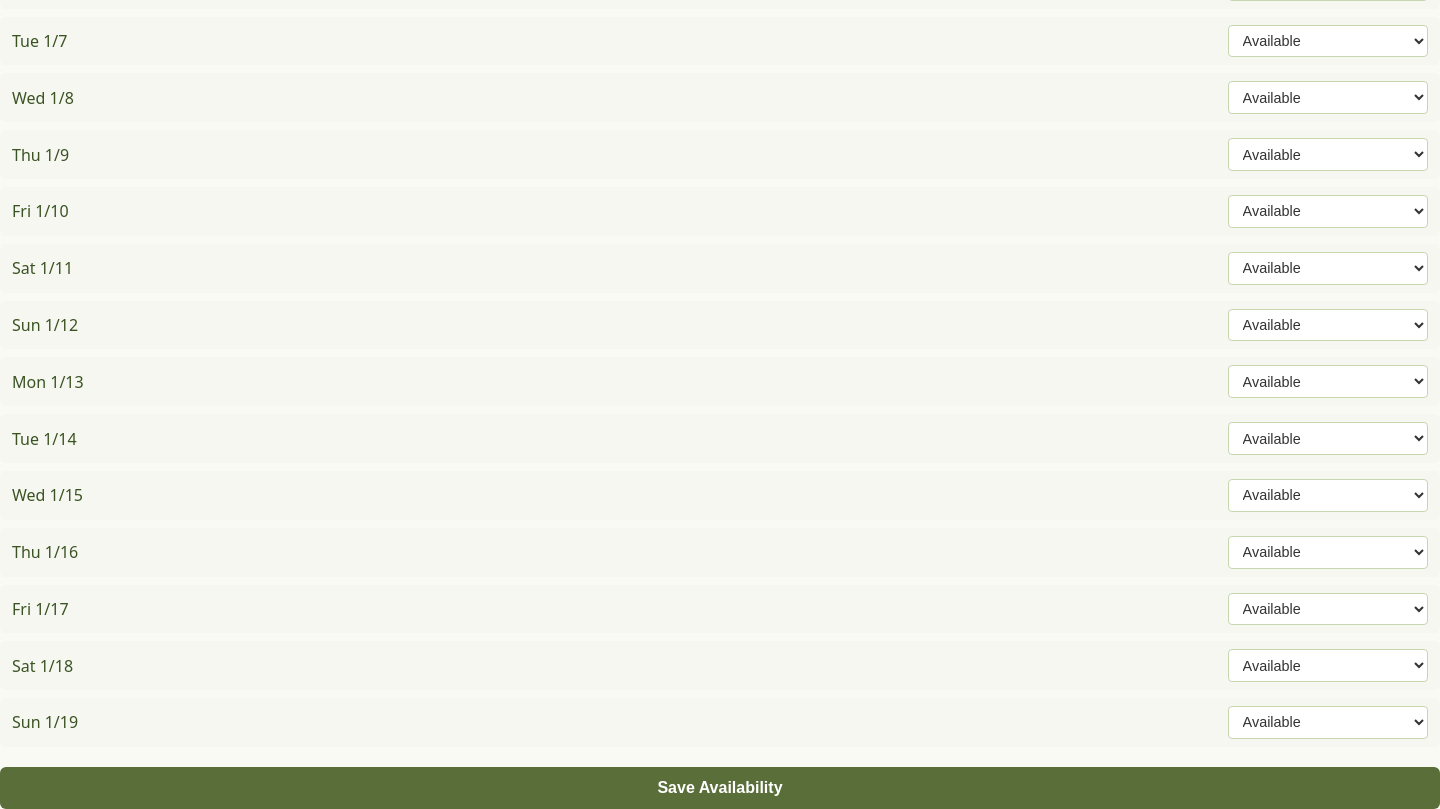
Test: AvailabilityGrid › shows success toast after save
The image size is (1440, 809).
(page scrolled)
Click the button "Save Availability" at x=720, y=788, box [0, 767, 1439, 808]
(page scrolled)
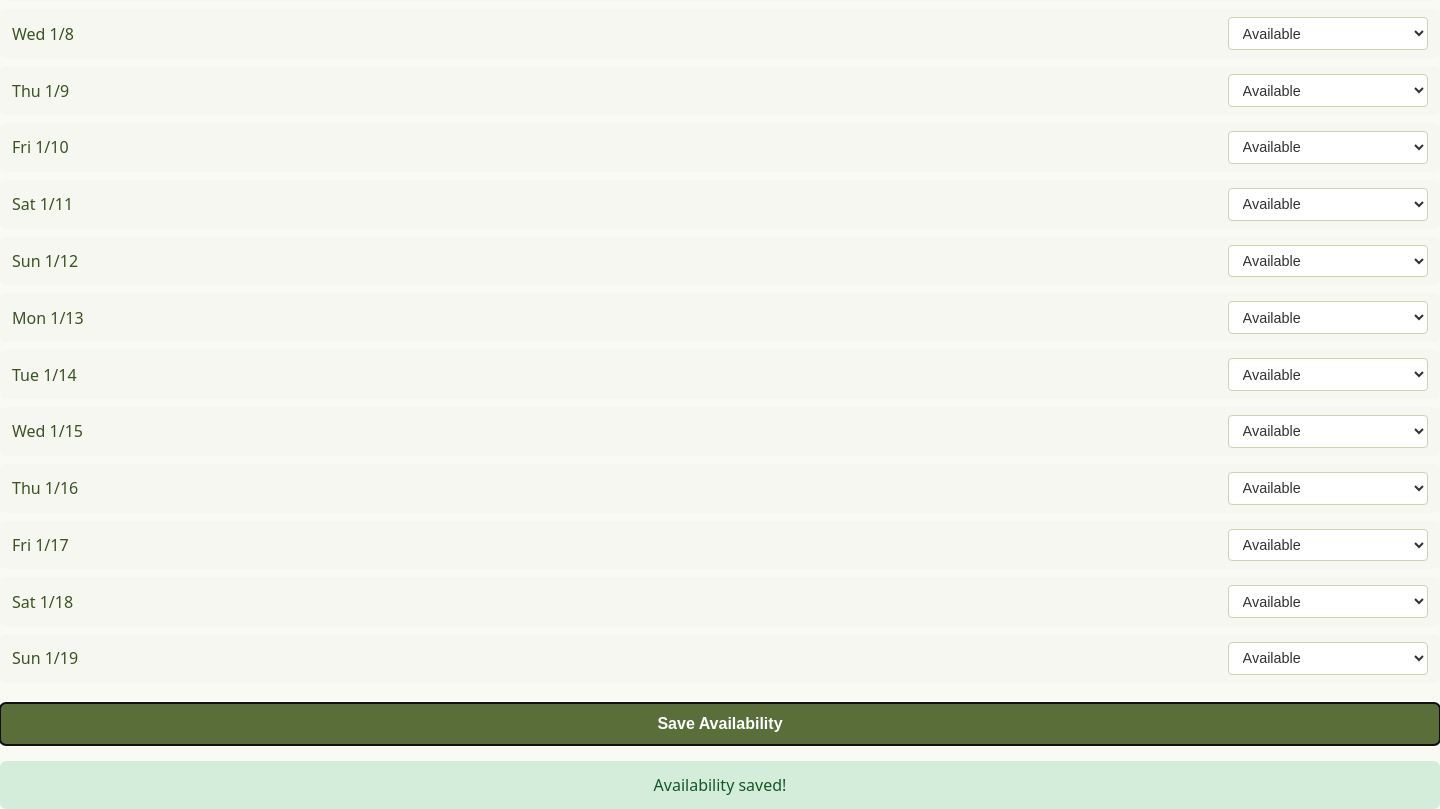
Expected: the text "Availability saved!" is shown, [0, 761, 1439, 808]
